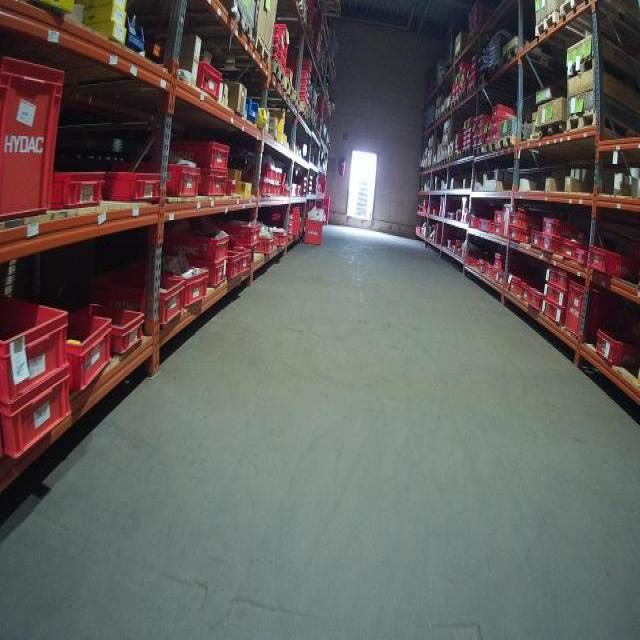pallet: (566, 52, 639, 91), (566, 109, 640, 140), (535, 10, 558, 39), (254, 33, 270, 71), (559, 0, 587, 19), (497, 133, 516, 151), (503, 46, 520, 66), (274, 61, 285, 86), (285, 78, 293, 99), (467, 83, 476, 98), (485, 143, 497, 154), (293, 93, 300, 111), (473, 146, 484, 157), (444, 104, 451, 119), (458, 92, 466, 105), (462, 149, 472, 159), (454, 151, 462, 162), (451, 99, 458, 110)
small_load_carrier: (1, 45, 69, 218), (4, 282, 79, 406), (2, 362, 82, 463), (99, 263, 191, 324), (71, 301, 121, 393), (87, 299, 150, 355), (56, 158, 108, 216), (102, 163, 172, 202), (167, 136, 235, 175), (563, 278, 604, 340), (588, 323, 636, 371), (170, 226, 232, 263), (148, 157, 200, 200), (178, 261, 216, 312), (586, 243, 636, 280), (215, 213, 260, 253), (196, 60, 223, 105), (194, 175, 235, 203), (540, 213, 578, 237), (306, 218, 332, 246), (510, 207, 543, 228), (540, 301, 565, 327), (223, 249, 242, 281), (539, 236, 571, 254), (548, 267, 574, 289), (543, 282, 569, 304), (506, 226, 530, 247), (211, 261, 229, 288), (573, 244, 594, 267), (236, 249, 254, 273), (262, 238, 279, 261), (525, 287, 541, 309), (511, 273, 529, 292), (565, 239, 582, 259), (529, 231, 544, 252), (276, 224, 288, 249)
